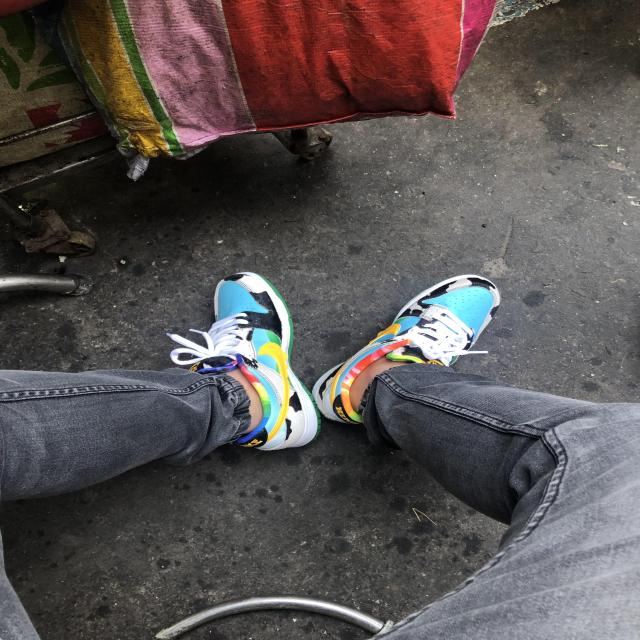shoe: (164, 264, 326, 472), (307, 272, 513, 434)
